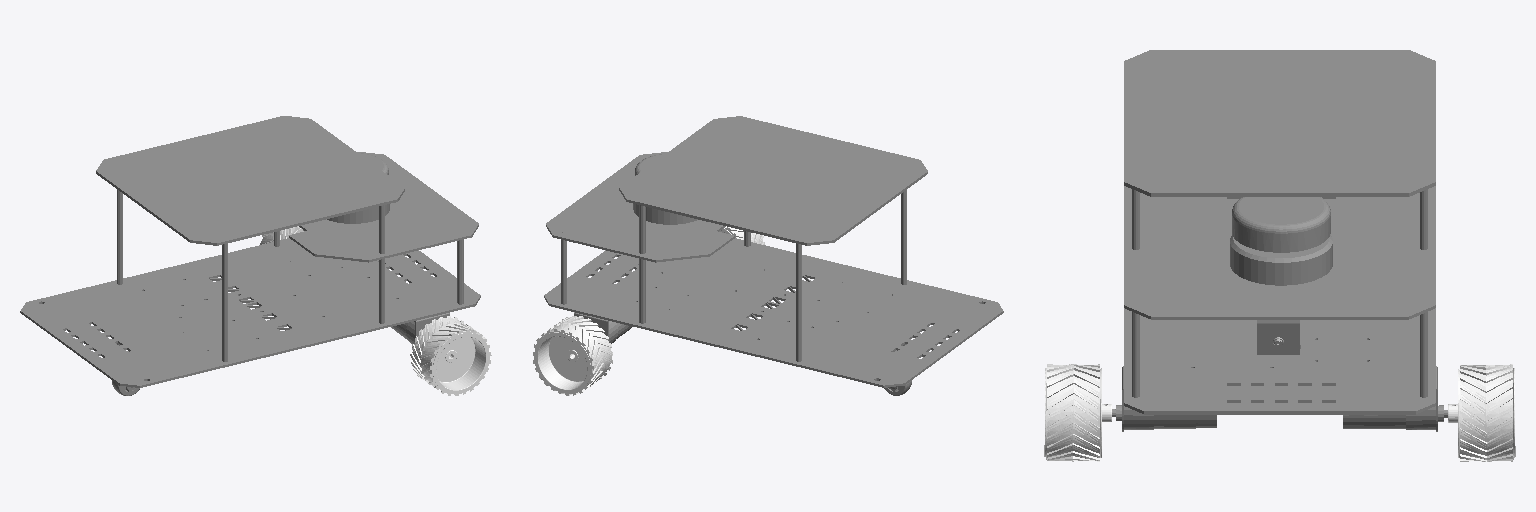
robot.urdf — xmobilerobot_01:
<?xml version="1.0" encoding="utf-8"?>
<!-- This URDF was automatically created by SolidWorks to URDF Exporter! Originally created by [author] ([email redacted]) 
     Commit Version: 1.6.0-1-g15f4949  Build Version: 1.6.7594.29634
     For more information, please see http://wiki.ros.org/sw_urdf_exporter -->
<robot
  name="xmobilerobot_01">
  <link
    name="base_link">
    <inertial>
      <origin
        xyz="0.0458494447507514 1.1322884973488E-05 0.0400945531504058"
        rpy="0 0 0" />
      <mass
        value="0.683606989839723" />
      <inertia
        ixx="0.00226568349300158"
        ixy="-1.03848748788576E-07"
        ixz="-4.13783865472539E-08"
        iyy="0.0045567388521945"
        iyz="8.60679724450789E-10"
        izz="0.00673076570323693" />
    </inertial>
    <visual>
      <origin
        xyz="0 0 0"
        rpy="0 0 0" />
      <geometry>
        <mesh
          filename="package://xmobilerobot_01/meshes/base_link.STL" />
      </geometry>
      <material
        name="">
        <color
          rgba="0.627450980392157 0.627450980392157 0.627450980392157 1" />
      </material>
    </visual>
    <collision>
      <origin
        xyz="0 0 0"
        rpy="0 0 0" />
      <geometry>
        <mesh
          filename="package://xmobilerobot_01/meshes/base_link.STL" />
      </geometry>
    </collision>
  </link>

  <link
    name="rp_lidar">
    <inertial>
      <origin
        xyz="2.5119E-15 1 -0.02389"
        rpy="0 0 0" />
      <mass
        value="0.18896" />
      <inertia
        ixx="9.9094E-05"
        ixy="-1.35E-23"
        ixz="-7.3057E-21"
        iyy="9.9094E-05"
        iyz="-1.7102E-21"
        izz="0.0001265" />
    </inertial>
    <visual>
      <origin
        xyz="0 0 0"
        rpy="0 0 0" />
      <geometry>
        <mesh
          filename="package://xmobilerobot_01/meshes/rp_lidar.STL" />
      </geometry>
      <material
        name="">
        <color
          rgba="0.62745 0.62745 0.62745 1" />
      </material>
    </visual>
    <collision>
      <origin
        xyz="0 0 0"
        rpy="0 0 0" />
      <geometry>
        <mesh
          filename="package://xmobilerobot_01/meshes/rp_lidar.STL" />
      </geometry>
    </collision>
  </link>
  <joint
    name="lidar"
    type="fixed">
    <origin
      xyz="0.11922 0.001064 0.124"
      rpy="0 0 0" />
    <parent
      link="base_link" />
    <child
      link="rp_lidar" />
    <axis
      xyz="0 0 0" />
  </joint>

  <gazebo reference="rp_lidar">
    <material>Gazebo/FlatBlack</material>
    <sensor type="ray" name="lds_lfcd_sensor">
      <pose>0 0 0.5 0 0</pose>
      <visualize>true</visualize>
      <update_rate>5</update_rate>
      <ray>
        <scan>
          <horizontal>
            <samples>760</samples>
            <resolution>1</resolution>
            <min_angle>0.0</min_angle>
            <max_angle>6.28319</max_angle>
          </horizontal>
        </scan>
        <range>
          <min>0.120</min>
          <max>3.5</max>
          <resolution>0.015</resolution>
        </range>
        <noise>
          <type>gaussian</type>
          <mean>0.0</mean>
          <stddev>0.01</stddev>
        </noise>
      </ray>
      <plugin name="gazebo_ros_lds_lfcd_controller" filename="libgazebo_ros_laser.so">
        <topicName>/scan</topicName>
        <frameName>rp_lidar</frameName>
      </plugin>
    </sensor>
  </gazebo>

  <link
    name="camera">
    <inertial>
      <origin
        xyz="0.084178 -0.0019382 -0.067072"
        rpy="0 0 0" />
      <mass
        value="0.0045244" />
      <inertia
        ixx="7.3398E-07"
        ixy="-2.7665E-09"
        ixz="-7.3935E-08"
        iyy="4.1203E-07"
        iyz="7.83E-10"
        izz="4.2272E-07" />
    </inertial>
    <visual>
      <origin
        xyz="0 0 0"
        rpy="0 0 0" />
      <geometry>
        <mesh
          filename="package://xmobilerobot_01/meshes/camera.STL" />
      </geometry>
      <material
        name="">
        <color
          rgba="0.75294 0.75294 0.75294 1" />
      </material>
    </visual>
    <collision>
      <origin
        xyz="0 0 0"
        rpy="0 0 0" />
      <geometry>
        <mesh
          filename="package://xmobilerobot_01/meshes/camera.STL" />
      </geometry>
    </collision>
  </link>
  <joint
    name="rp_camera"
    type="fixed">
    <origin
      xyz="0.11922 0.001064 0.124"
      rpy="0 0 0" />
    <parent
      link="base_link" />
    <child
      link="camera" />
    <axis
      xyz="0 1 0" />
  </joint>

  <gazebo reference="camera">
    <sensor type="camera" name="camera">
      <update_rate>30.0</update_rate>
      <camera name="head">
        <horizontal_fov>1.3962634</horizontal_fov>
        <image>
          <width>800</width>
          <height>800</height>
          <format>R8G8B8</format>
        </image>
        <clip>
          <near>0.02</near>
          <far>300</far>
        </clip>
        <noise>
          <type>gaussian</type>
          <!-- Noise is sampled independently per pixel on each frame.
               That pixel's noise value is added to each of its color
               channels, which at that point lie in the range [0,1]. -->
          <mean>0.0</mean>
          <stddev>0.007</stddev>
        </noise>
      </camera>
      <plugin name="camera_one" filename="libgazebo_ros_camera.so">
        <alwaysOn>true</alwaysOn>
        <updateRate>0.0</updateRate>
        <cameraName>/camera</cameraName>
        <imageTopicName>image_raw</imageTopicName>
        <cameraInfoTopicName>camera_two_info</cameraInfoTopicName>
        <frameName>camera</frameName>
        <hackBaseline>0.07</hackBaseline>
        <distortionK1>0.0</distortionK1>
        <distortionK2>0.0</distortionK2>
        <distortionK3>0.0</distortionK3>
        <distortionT1>0.0</distortionT1>
        <distortionT2>0.0</distortionT2>
      </plugin>
    </sensor>
  </gazebo>

  <link
    name="left_wheel">
    <inertial>
      <origin
        xyz="0.0012723 -3.2211E-08 -1.328E-05"
        rpy="0 0 0" />
      <mass
        value="0.061316" />
      <inertia
        ixx="5.451E-05"
        ixy="4.2646E-11"
        ixz="-1.6536E-07"
        iyy="3.521E-05"
        iyz="5.6552E-12"
        izz="3.5212E-05" />
    </inertial>
    <visual>
      <origin
        xyz="0 0 0"
        rpy="0 0 0" />
      <geometry>
        <mesh
          filename="package://xmobilerobot_01/meshes/left_wheel.STL" />
      </geometry>
      <material
        name="">
        <color
          rgba="1 1 1 1" />
      </material>
    </visual>
    <collision>
      <origin
        xyz="0 0 0"
        rpy="0 0 0" />
      <geometry>
        <mesh
          filename="package://xmobilerobot_01/meshes/left_wheel.STL" />
      </geometry>
    </collision>
  </link>
  <joint
    name="wheel_01"
    type="continuous">
    <origin
      xyz="0.14621 0.15247 -0.031244"
      rpy="0 0 -1.5708" />
    <parent
      link="base_link" />
    <child
      link="left_wheel" />
    <axis
      xyz="-1 0 0" />
  </joint>
  <link
    name="right_wheel">
    <inertial>
      <origin
        xyz="-0.0012723 -5.7863E-09 -1.3329E-05"
        rpy="0 0 0" />
      <mass
        value="0.061316" />
      <inertia
        ixx="5.451E-05"
        ixy="-1.0862E-11"
        ixz="1.661E-07"
        iyy="3.521E-05"
        iyz="5.4532E-12"
        izz="3.5212E-05" />
    </inertial>
    <visual>
      <origin
        xyz="0 0 0"
        rpy="0 0 0" />
      <geometry>
        <mesh
          filename="package://xmobilerobot_01/meshes/right_wheel.STL" />
      </geometry>
      <material
        name="">
        <color
          rgba="1 1 1 1" />
      </material>
    </visual>
    <collision>
      <origin
        xyz="0 0 0"
        rpy="0 0 0" />
      <geometry>
        <mesh
          filename="package://xmobilerobot_01/meshes/right_wheel.STL" />
      </geometry>
    </collision>
  </link>
  <joint
    name="wheel_02"
    type="continuous">
    <origin
      xyz="0.14519 -0.15244 -0.031377"
      rpy="0 0 -1.5708" />
    <parent
      link="base_link" />
    <child
      link="right_wheel" />
    <axis
      xyz="-1 0 0" />
  </joint>

	<gazebo>
		<plugin name="differential_drive_controller" filename="libgazebo_ros_diff_drive.so">
			<updateRate>20</updateRate>
			<robotBaseFrame>base_link</robotBaseFrame>
			<leftJoint>wheel_01</leftJoint>
			<rightJoint>wheel_02</rightJoint>
			<wheelSeparation>0.17186</wheelSeparation>
			<wheelDiameter>0.065</wheelDiameter>
			<wheelAcceleration>1.0</wheelAcceleration>
			<wheelTorque>20</wheelTorque>
			<commandTopic>cmd_vel</commandTopic>
			<odometryTopic>odom</odometryTopic>
			<odometryFrame>odom</odometryFrame>
			<odometrySource>1</odometrySource>
			<publishWheelTF>true</publishWheelTF>
			<publishOdomTF>0</publishOdomTF>
			<publishOdom>1</publishOdom>
			<publishWheelJointState>true</publishWheelJointState>
			<legacyMode>false</legacyMode>
			<alwaysOn>true</alwaysOn>
		</plugin>
	</gazebo>
</robot>

--- Facts derived from the render (not from the file) ---
The picture shows the robot from 3 angles, left to right: view 1: azimuth 30°, elevation 25°; view 2: azimuth 150°, elevation 25°; view 3: azimuth 270°, elevation 25°; orthographic projection.
Model xmobilerobot_01 with 5 links and 4 joints (2 continuous, 2 fixed), rooted at base_link, posed every joint at zero.
Visible links, largest first — view 1: base_link, right_wheel, rp_lidar; view 2: base_link, left_wheel, rp_lidar; view 3: base_link, rp_lidar, left_wheel, right_wheel, camera.
Link boxes in pixels (x1,y1,x2,y2): base_link: (20,116,480,395); right_wheel: (410,316,491,395); rp_lidar: (327,153,389,223); base_link: (544,116,1003,395); left_wheel: (533,316,612,395); rp_lidar: (633,154,697,224); base_link: (1112,50,1447,431); rp_lidar: (1230,197,1332,285); left_wheel: (1448,364,1515,461); right_wheel: (1044,364,1111,461); camera: (1257,320,1300,354).
Size in the robot's own frame: 0.4211 by 0.3467 by 0.2055 metres.
5 mesh visuals loaded from 5 distinct referenced files (5 binary STL).
